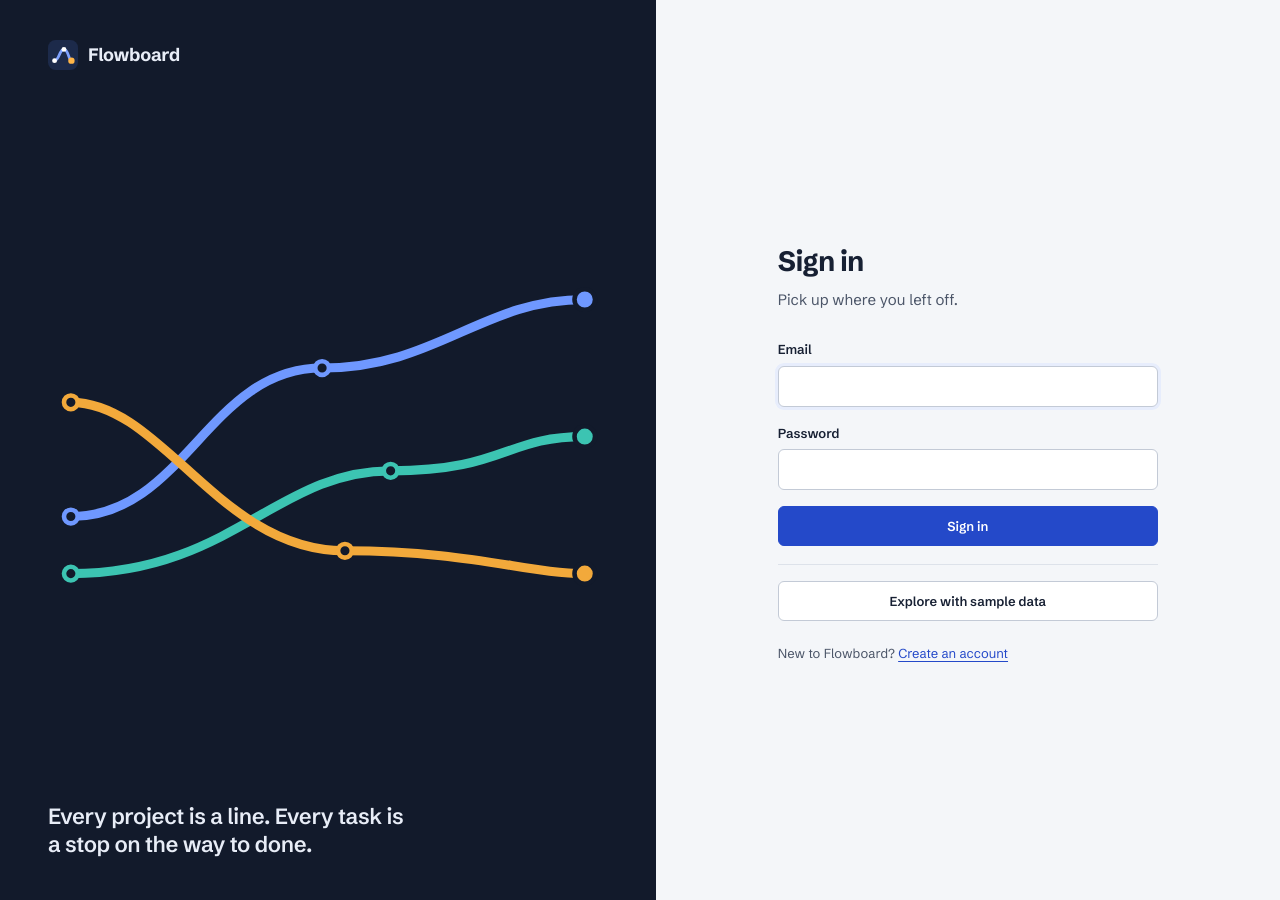
Test: authentication › "Explore with sample data" opens a populated workspace
What coordinates should you click on to do the following:
click the button "Explore with sample data"
I would click on:
 (968, 601)
Its box is [778,581,1158,621].
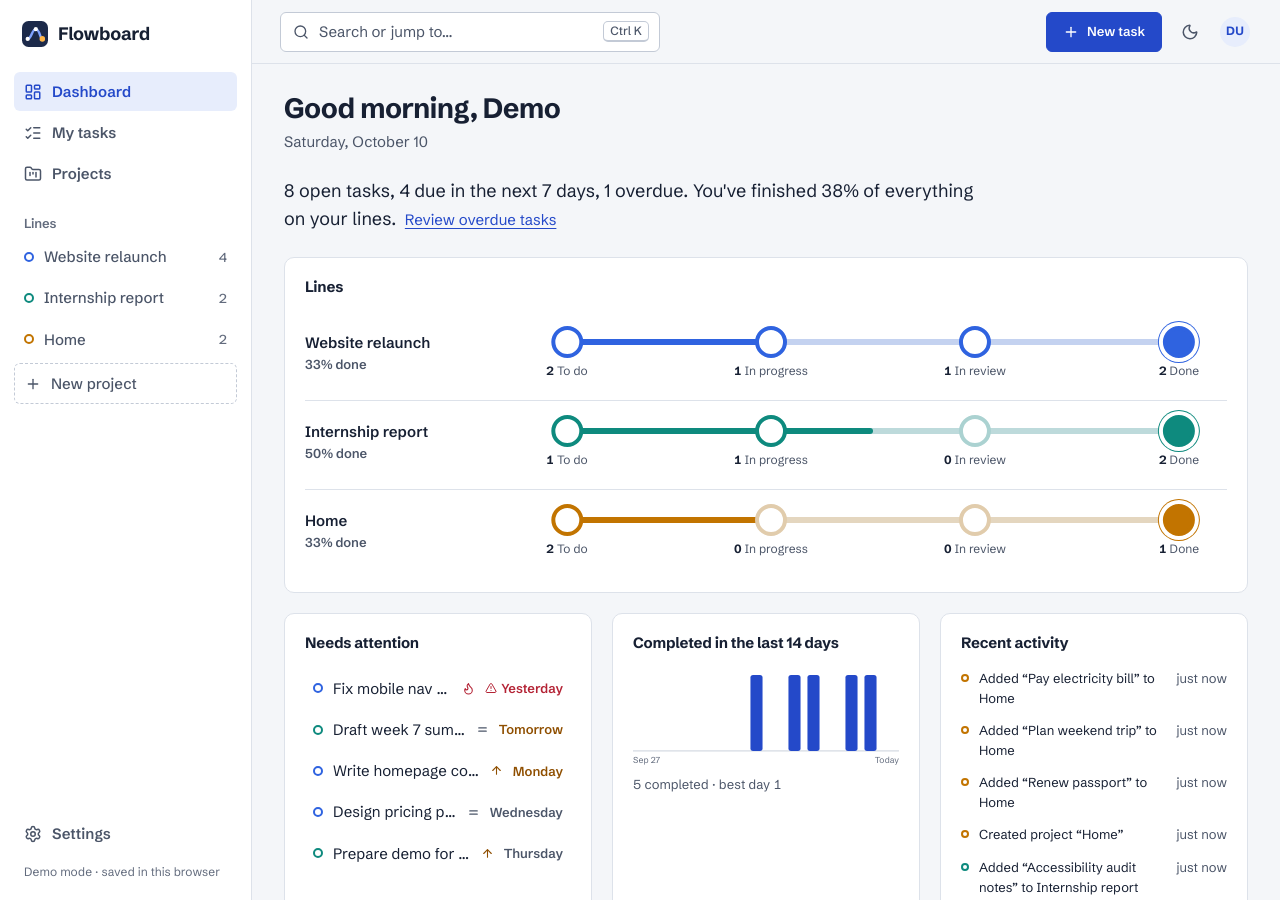
Expected: the link "Website relaunch 33% done" is shown, [305,333,430,372]
Expected: the text "8 open tasks" is shown, [284,179,683,202]
